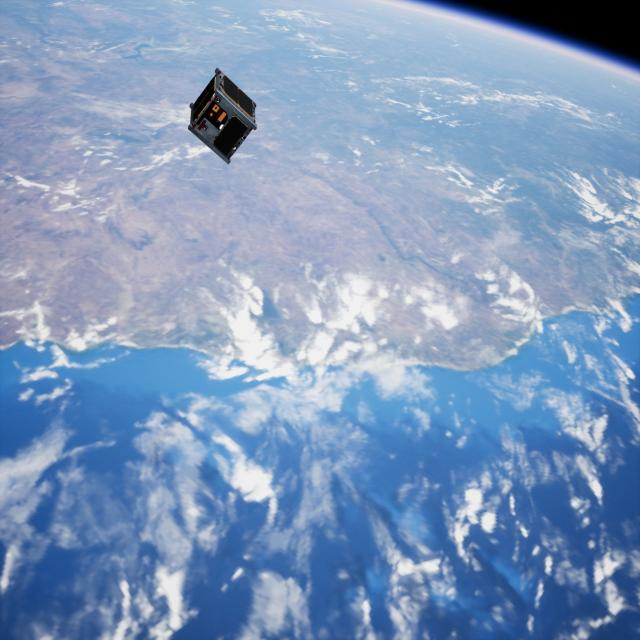satellite: (187, 70, 259, 168)
